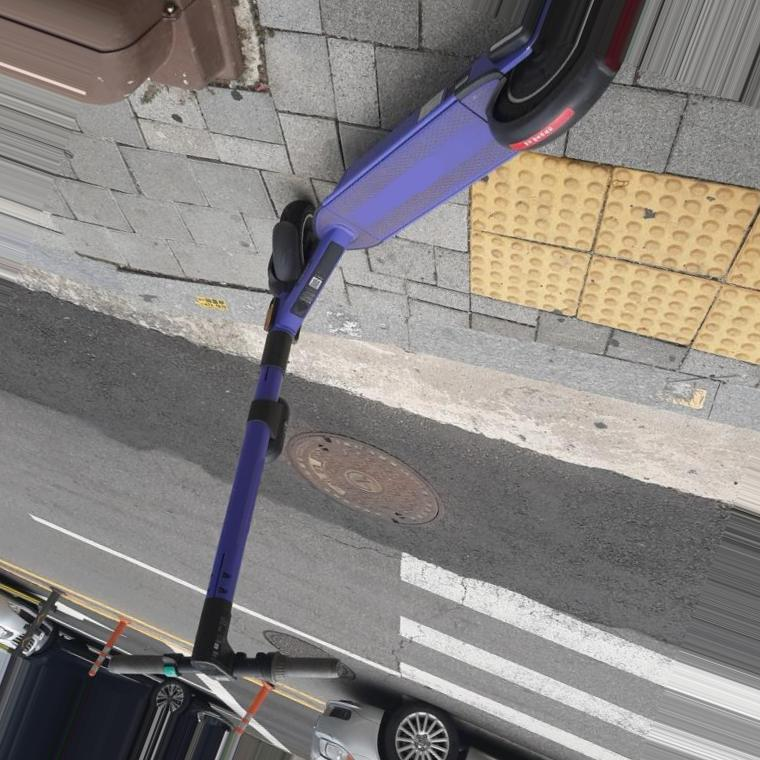scooter: (107, 22, 624, 682)
